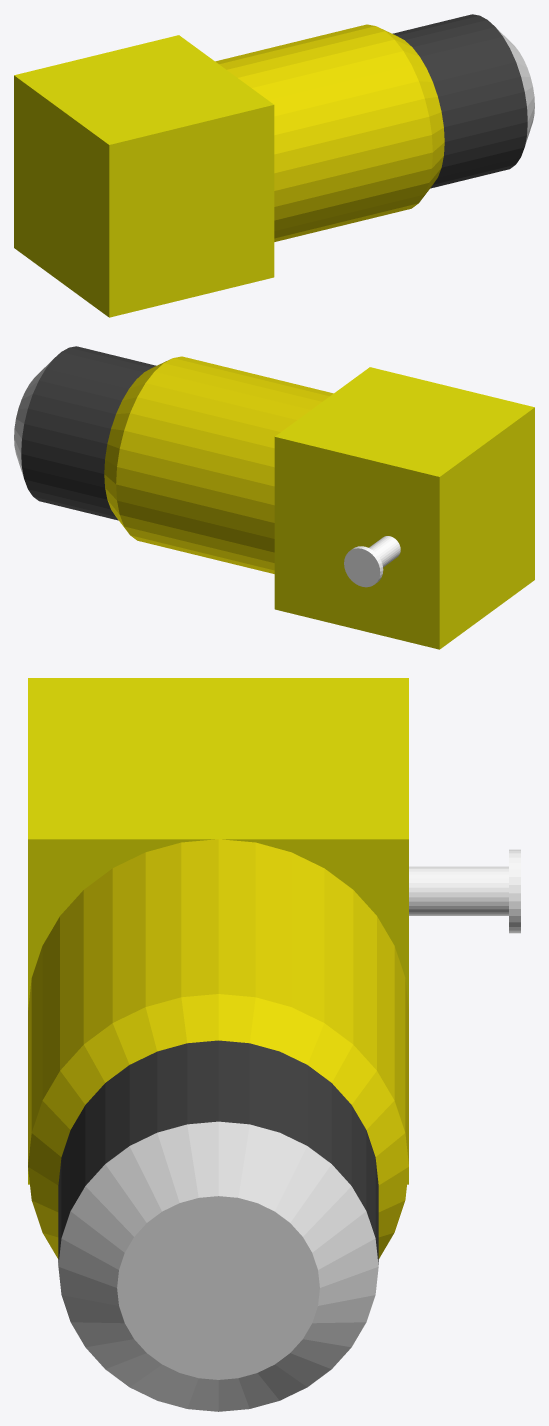
Rendered from motor.fbx.
3 views of the same model, one above another, from view 1: azimuth 30°, elevation 25°; view 2: azimuth 150°, elevation 25°; view 3: azimuth 270°, elevation 25° (orthographic). The views are drawn at different scales.
Visible parts, largest first — view 1: Cube, 圓柱體; view 2: Cube, 圓柱體, 圓柱體.003; view 3: 圓柱體, Cube, 圓柱體.003.
Part boxes in pixels (<box>): Cube: <box>14,35,274,317</box>; 圓柱體: <box>215,14,534,241</box>; Cube: <box>274,367,534,649</box>; 圓柱體: <box>14,346,333,573</box>; 圓柱體.003: <box>344,536,400,587</box>; 圓柱體: <box>28,839,408,1411</box>; Cube: <box>28,678,408,1184</box>; 圓柱體.003: <box>409,849,520,933</box>.
Size of the model in its own units: 543 by 200 by 259.
